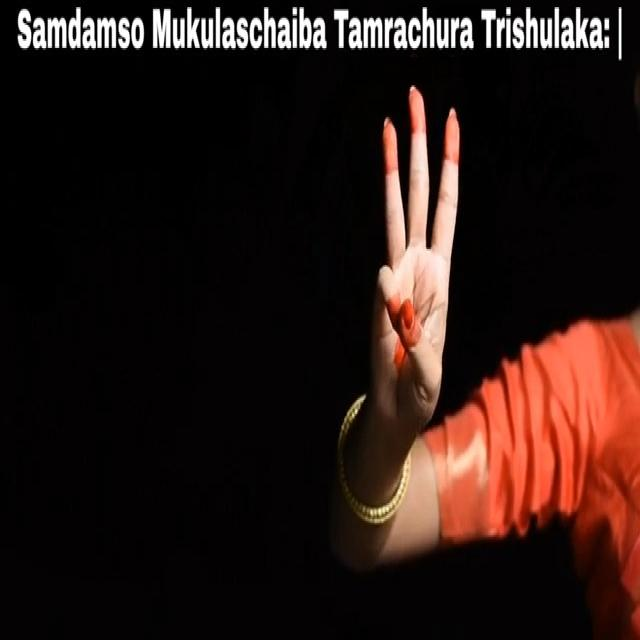Trishula: (364, 74, 475, 435)
bangle: (332, 416, 411, 528)
text: (8, 5, 625, 76)
